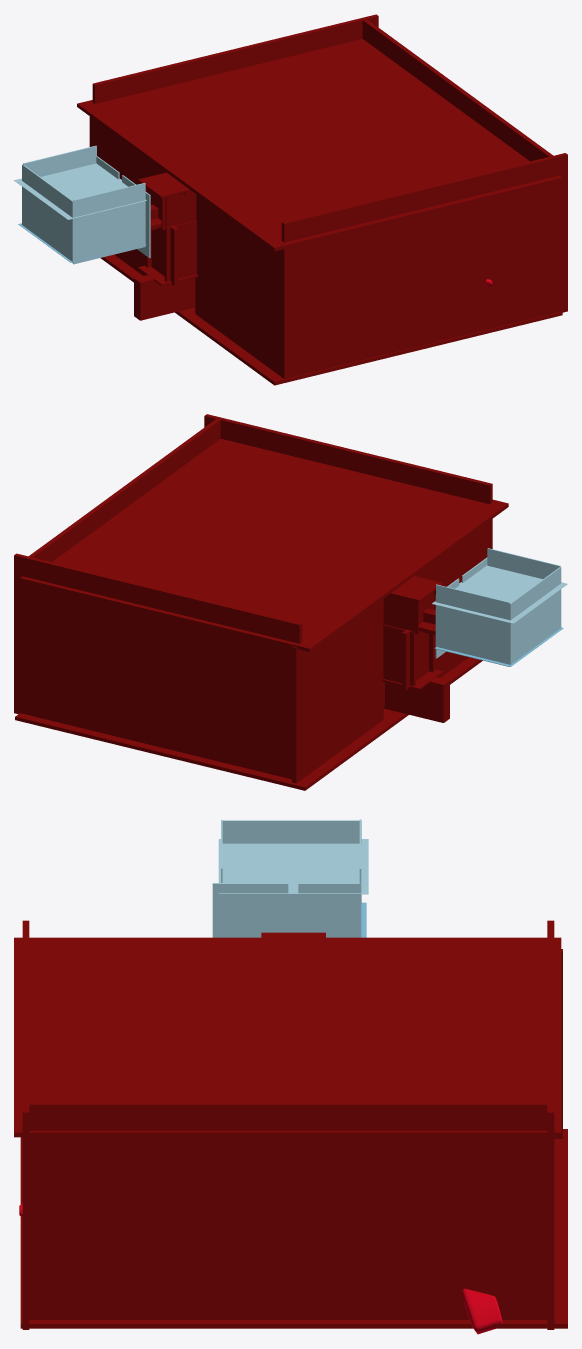
The model's file is level 3 judgement blocked.fbx.
3 renders of one model, top to bottom at view 1: azimuth 30°, elevation 25°; view 2: azimuth 150°, elevation 25°; view 3: azimuth 270°, elevation 25°, orthographic. The views are drawn at different scales.
Parts seen in each view (by area): view 1: pCube96, pCube90, pCube81, pCube88, pCube15, pCube89, pCube58, pCube16, pCube82, pCube54, pCube65, pCube50 (+5 smaller); view 2: pCube96, pCube88, pCube82, pCube90, pCube14, pCube58, pCube89, pCube16, pCube81, pCube54, pCube65, pCube51 (+4 smaller); view 3: pCube89, pCube96, pCube58, pCube54, pCube98, pCube16, pCube24, pCube88, pCube90, pCube25, pCube91.
Part boxes in pixels (left/top/right/bottom): pCube96: left=77, top=39, right=562, bottom=251; pCube90: left=281, top=153, right=567, bottom=378; pCube81: left=195, top=194, right=281, bottom=376; pCube88: left=92, top=14, right=378, bottom=146; pCube15: left=73, top=183, right=145, bottom=264; pCube89: left=362, top=18, right=554, bottom=161; pCube58: left=100, top=254, right=562, bottom=385; pCube16: left=22, top=164, right=73, bottom=263; pCube82: left=89, top=116, right=166, bottom=275; pCube54: left=14, top=163, right=146, bottom=219; pCube65: left=134, top=275, right=195, bottom=320; pCube50: left=164, top=220, right=196, bottom=281; pCube96: left=20, top=438, right=508, bottom=651; pCube88: left=14, top=553, right=302, bottom=780; pCube82: left=292, top=599, right=383, bottom=783; pCube90: left=204, top=414, right=492, bottom=548; pCube14: left=436, top=584, right=510, bottom=666; pCube58: left=15, top=657, right=482, bottom=790; pCube89: left=27, top=417, right=221, bottom=561; pCube16: left=509, top=566, right=561, bottom=664; pCube81: left=415, top=521, right=489, bottom=677; pCube54: left=432, top=565, right=567, bottom=623; pCube65: left=383, top=677, right=449, bottom=722; pCube51: left=383, top=624, right=415, bottom=688; pCube89: left=24, top=1101, right=550, bottom=1319; pCube96: left=14, top=937, right=561, bottom=1137; pCube58: left=20, top=1129, right=567, bottom=1328; pCube54: left=218, top=839, right=368, bottom=894; pCube98: left=212, top=883, right=288, bottom=937; pCube16: left=222, top=820, right=361, bottom=904; pCube24: left=298, top=883, right=360, bottom=937; pCube88: left=547, top=920, right=554, bottom=1329; pCube90: left=22, top=920, right=29, bottom=1329; pCube25: left=267, top=894, right=309, bottom=932; pCube91: left=462, top=1288, right=502, bottom=1334.
Size of the model in its own units: 387 by 160 by 312.
